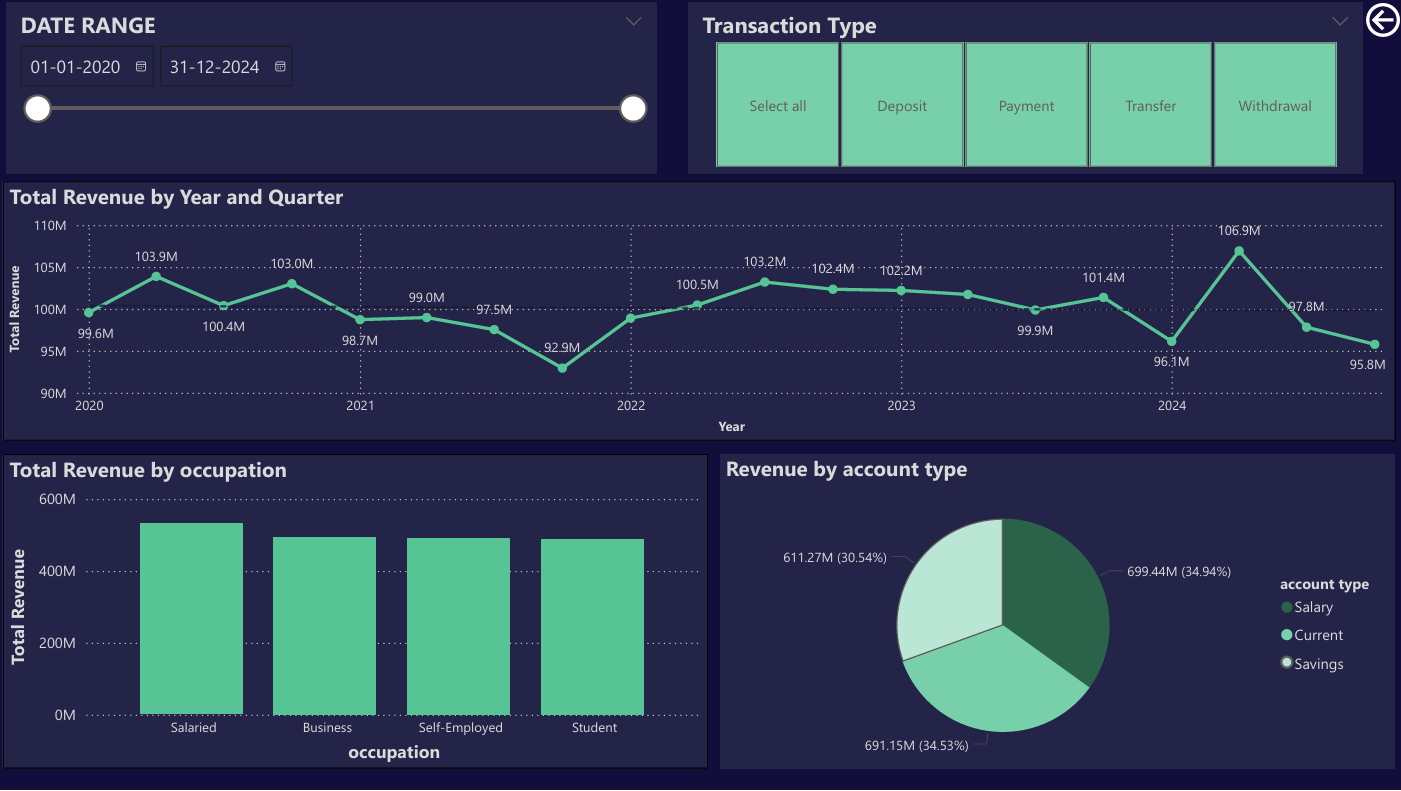

What the dashboard file says about the page in this screenshot:
{"tool":"powerbi","page":{"name":"Trend Analysis","canvas":[1280,720],"ordinal":2},"visuals":[{"type":"lineChart","fields":{"Category":["public transactions.txn_date.Variation.Date Hierarchy.Year","public transactions.txn_date.Variation.Date Hierarchy.Quarter","public transactions.txn_date.Variation.Date Hierarchy.Month","public transactions.txn_date.Variation.Date Hierarchy.Day"],"Y":["Sum(public transactions.txn_amount)"]},"box":[5,167.3,1265.6,235.2],"z":0},{"type":"columnChart","fields":{"Y":["Sum(public transactions.txn_amount)"],"Category":["public customers.occupation"]},"box":[4.9,414.8,640.9,286.3],"z":1000},{"type":"pieChart","fields":{"Category":["public customers.account_type"],"Y":["Sum(public transactions.txn_amount)"]},"box":[657.1,414.8,613.2,286.3],"z":2000},{"type":"slicer","fields":{"Values":["public transactions.txn_date"]},"box":[8.1,4.9,590.4,156.1],"z":3000},{"type":"slicer","fields":{"Values":["public transactions.txn_type"]},"box":[627.8,4.9,613.2,156.1],"z":4000},{"type":"actionButton","box":[1239.3,0,40.7,40.7],"z":4001}]}

Visuals, with their boxes in screenshot pixels (x1, y1, x2, y2), scaled from the page's 1280x720 canvas onto the 1401x791 screenshot:
lineChart - public transactions.txn_date.Variation.Date Hierarchy.Year x public transactions.txn_date.Variation.Date Hierarchy.Quarter: pyautogui.locateOnScreen(5, 184, 1391, 442)
columnChart - Sum(public transactions.txn_amount) x public customers.occupation: pyautogui.locateOnScreen(5, 456, 707, 770)
pieChart - public customers.account_type x Sum(public transactions.txn_amount): pyautogui.locateOnScreen(719, 456, 1390, 770)
slicer - public transactions.txn_date: pyautogui.locateOnScreen(9, 5, 655, 177)
slicer - public transactions.txn_type: pyautogui.locateOnScreen(687, 5, 1358, 177)
actionButton: pyautogui.locateOnScreen(1356, 0, 1400, 45)
